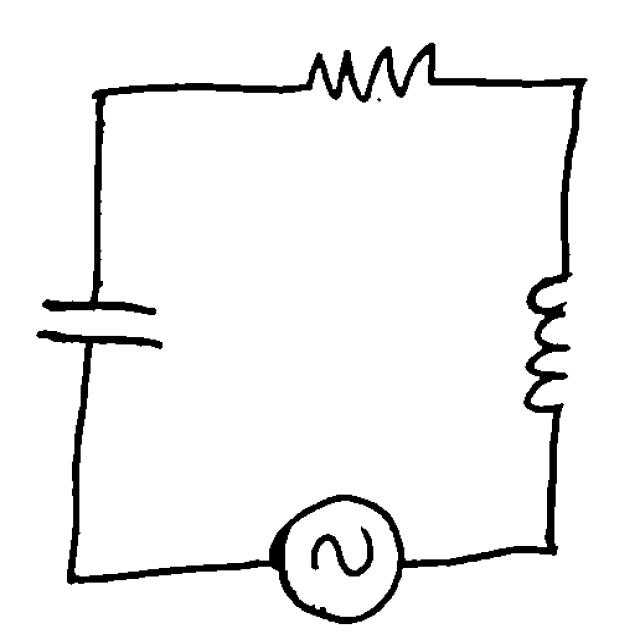ac: (261, 480, 414, 630)
capacitor: (25, 278, 183, 376)
inductor: (513, 250, 592, 432)
resistor: (276, 34, 456, 118)
